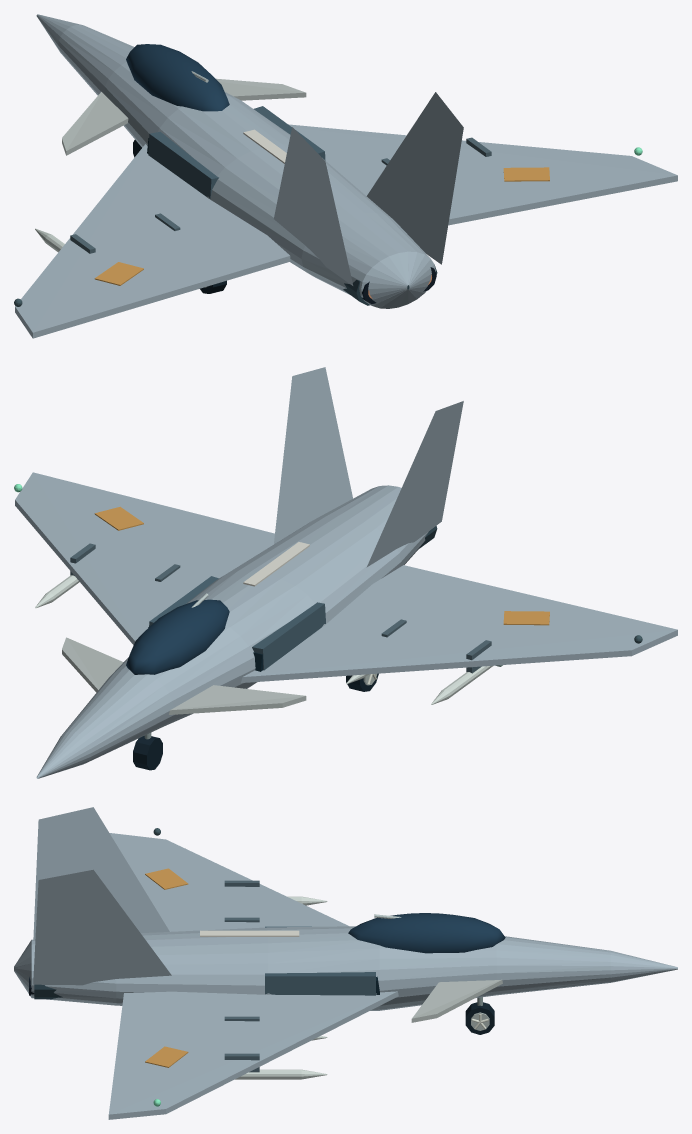
Rendered from fighter.glb.
3 views of the same model, one above another, from view 1: azimuth 30°, elevation 25°; view 2: azimuth 150°, elevation 25°; view 3: azimuth 270°, elevation 25° (orthographic). The views are drawn at different scales.
Visible parts, largest first — view 1: fighter; view 2: fighter; view 3: fighter.
Boxes of the visible parts, bbox=[...] form: fighter: bbox=[14, 14, 677, 338]; fighter: bbox=[14, 367, 677, 778]; fighter: bbox=[14, 807, 677, 1119].
Bounding box in the file's own units: 11.4 × 3.72 × 11.35.
